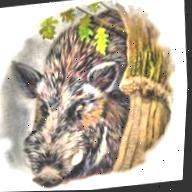boar: (0, 2, 143, 179)
